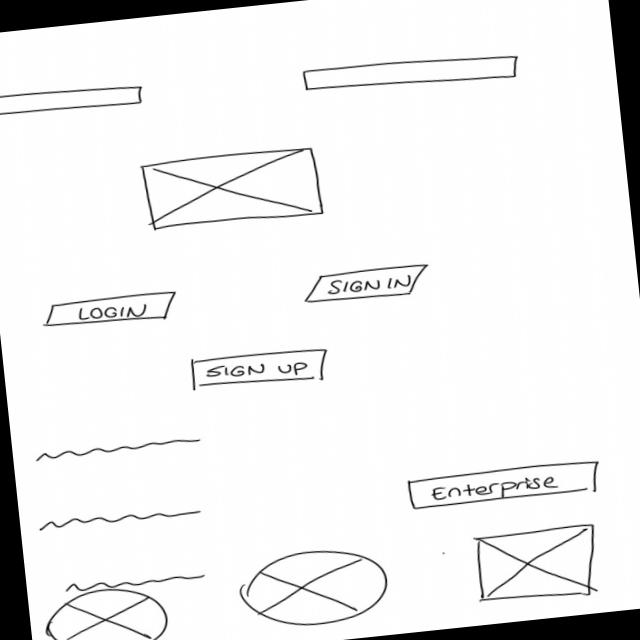button: (407, 458, 603, 513), (190, 346, 335, 397), (41, 288, 182, 333), (301, 262, 435, 307)
image: (139, 144, 328, 236), (235, 543, 394, 634), (472, 520, 605, 608), (41, 582, 173, 640)
input: (302, 46, 523, 103), (1, 80, 144, 123)
text: (32, 435, 205, 466), (35, 504, 203, 534), (63, 569, 207, 594)
